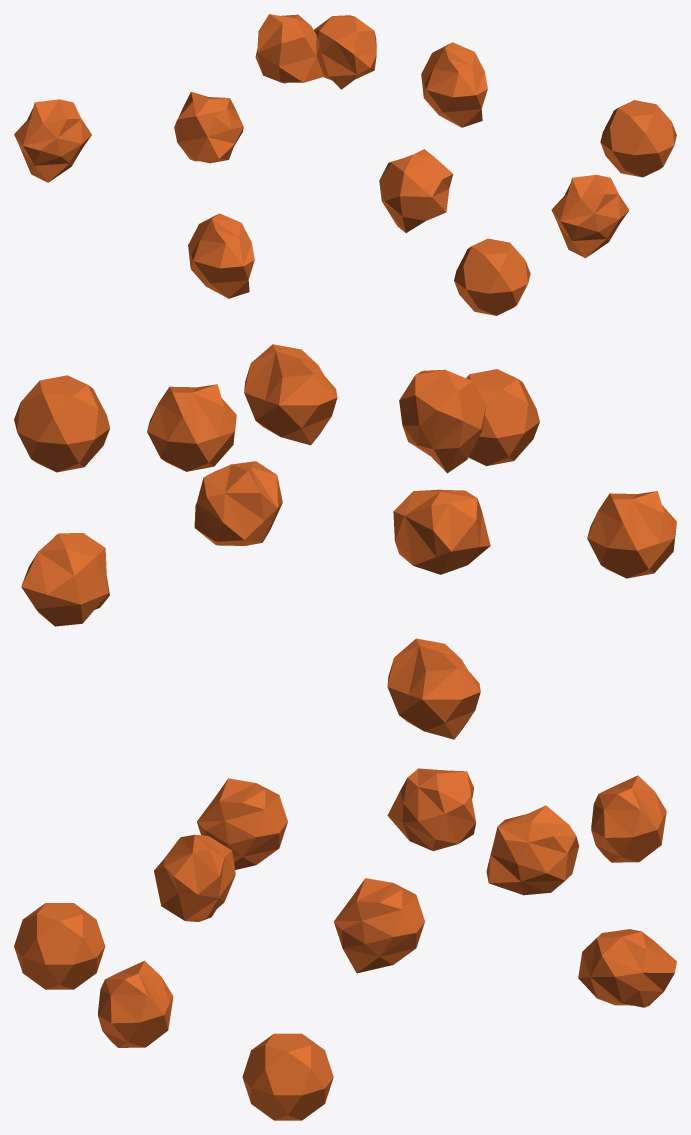
The model's file is Ore_Deposit.obj.
The picture shows the model from 3 angles, top to bottom: view 1: azimuth 30°, elevation 25°; view 2: azimuth 150°, elevation 25°; view 3: azimuth 270°, elevation 25°; orthographic projection. The views are drawn at different scales.
Visible parts, largest first — view 1: mergedBlocks; view 2: mergedBlocks; view 3: mergedBlocks.
Part boxes in pixels (x1,y1,x2,y2): mergedBlocks: [14, 14, 676, 315]; mergedBlocks: [14, 344, 676, 739]; mergedBlocks: [14, 768, 676, 1120].
Size of the model in its own units: 0.7468 by 0.203 by 0.7257.
